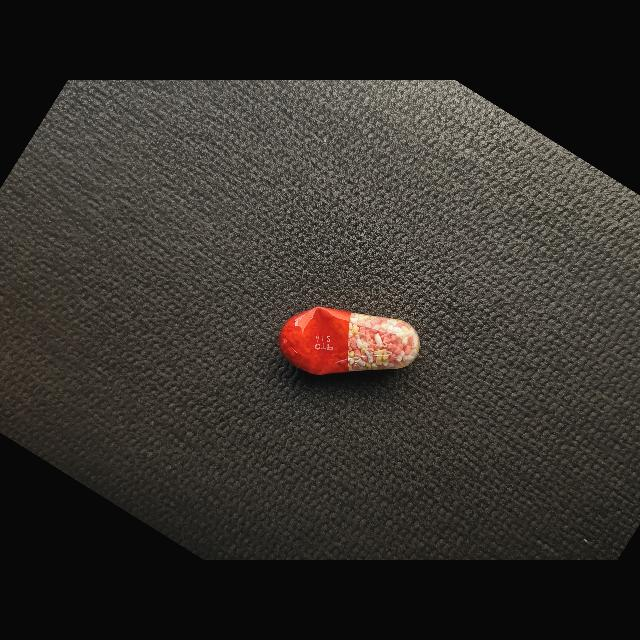Defective Capsule: (279, 306, 420, 375)
